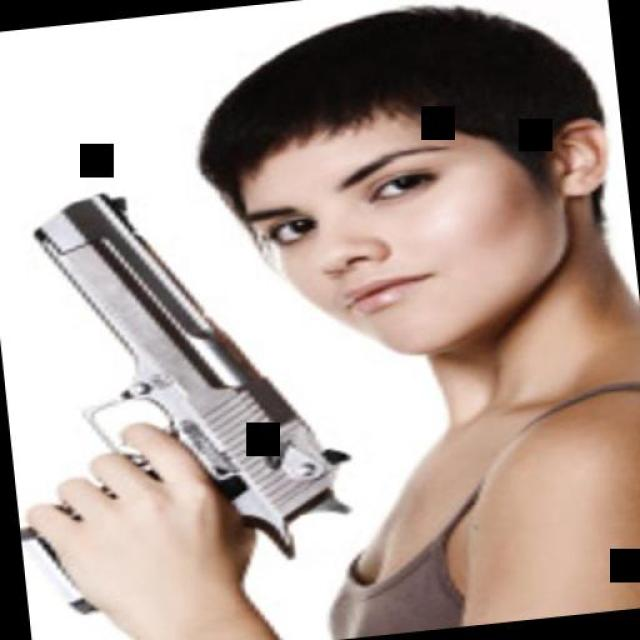gun: (0, 159, 370, 620)
